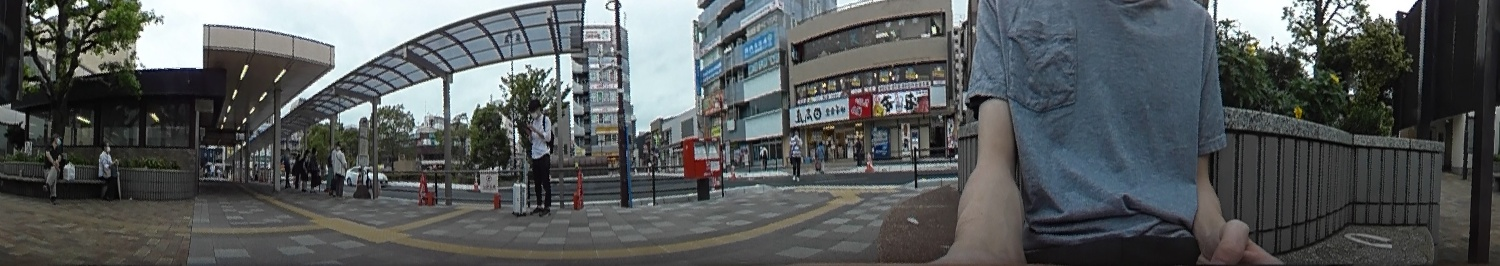difficult_person: (330, 143, 345, 196), (309, 144, 322, 189), (299, 149, 309, 191), (282, 145, 291, 186), (816, 143, 825, 171), (853, 138, 863, 163)
person: (522, 101, 555, 214), (43, 130, 64, 199), (96, 140, 119, 197), (789, 129, 802, 179)
